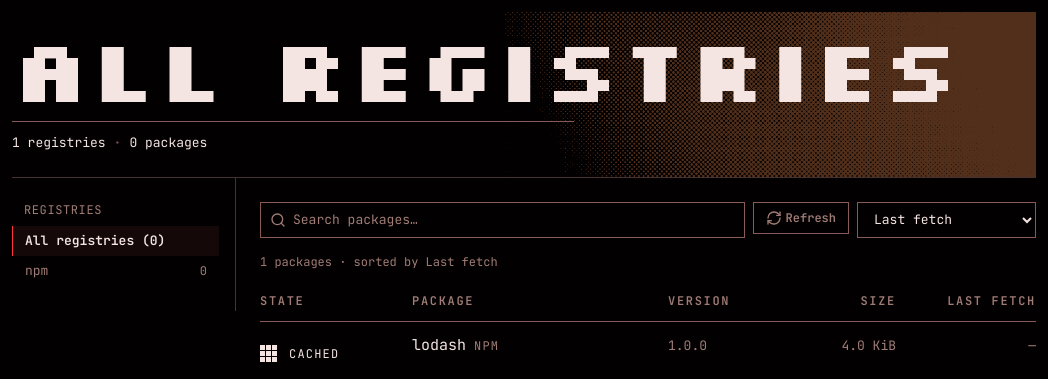
Test: PackageCatalog resolution column › renames the ordering in the caption when the sort changes
Select "Most Downloaded" in the dropdown named "Sort packages": (946, 220) x1=857 y1=202 x2=1036 y2=238
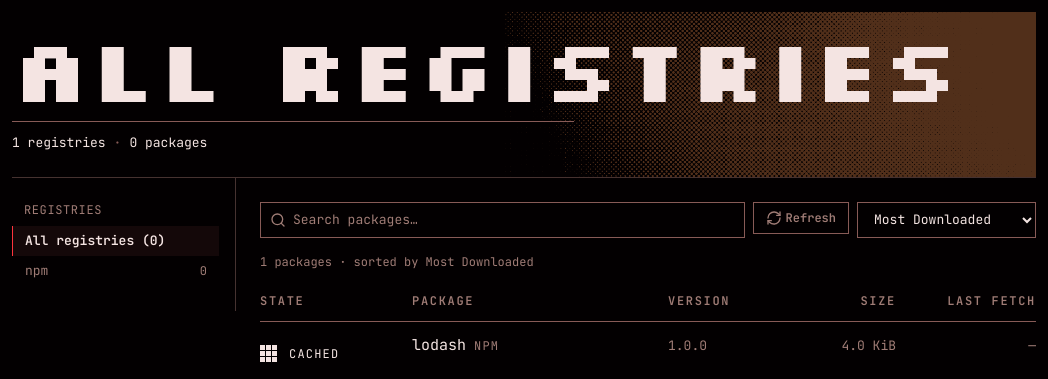
Now the text "1 packages · sorted by Most Downloaded" is shown, box x1=260 y1=254 x2=534 y2=270
